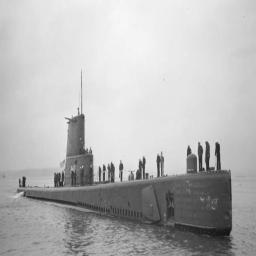submarine: (18, 116, 234, 236)
